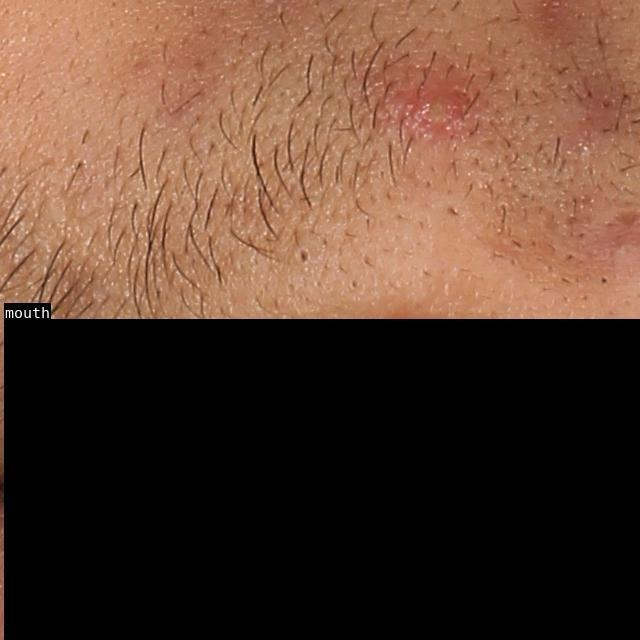comedo: (293, 244, 313, 269)
